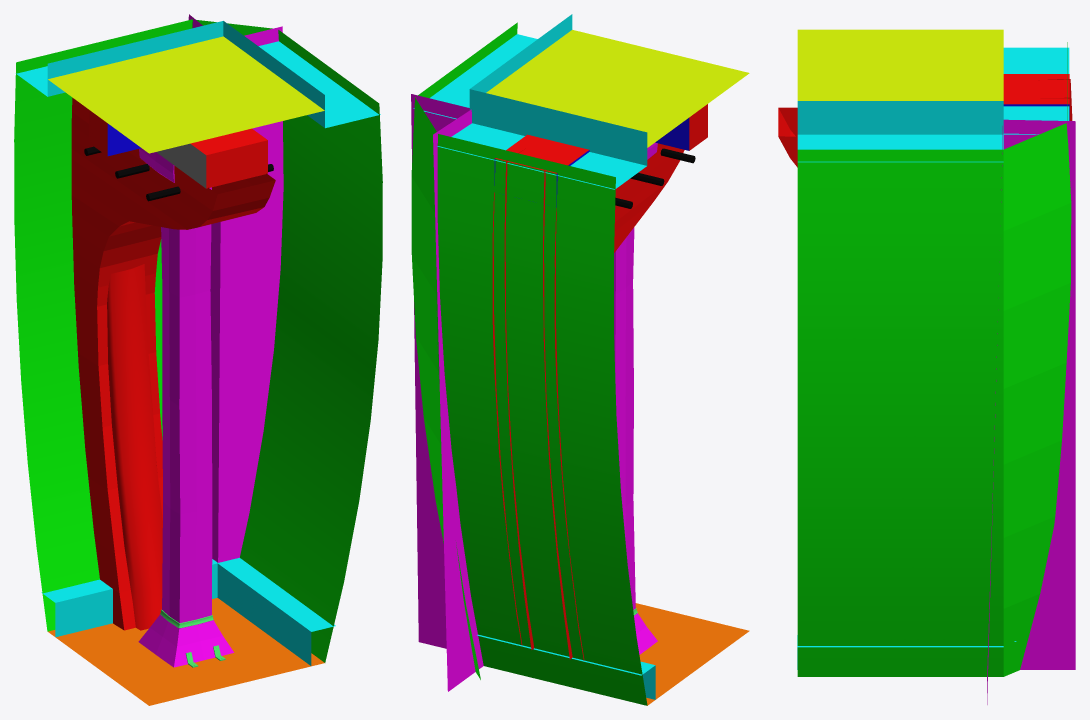
Rendered from E_Tiles.FBX.
The picture shows the model from 3 angles, left to right: view 1: azimuth 30°, elevation 25°; view 2: azimuth 150°, elevation 25°; view 3: azimuth 270°, elevation 25°; orthographic projection.
Parts seen in each view (by area): view 1: E_Esquina, E_L, E_Columna, E_Detalle, E_Cruz, E_Suelo, E_Final, E_Horizontal; view 2: E_Esquina, E_Detalle, E_L, E_Columna, E_Final, E_Horizontal, E_Cruz; view 3: E_Final, E_Esquina, E_Detalle, E_L, E_Cruz, E_Suelo, E_Horizontal.
Boxes of the visible parts, x1,y1,x2,y2 form: E_Esquina: [14, 14, 382, 665]; E_L: [14, 19, 321, 696]; E_Columna: [138, 148, 234, 667]; E_Detalle: [15, 66, 324, 630]; E_Cruz: [48, 36, 324, 696]; E_Suelo: [48, 74, 323, 705]; E_Final: [48, 41, 380, 631]; E_Horizontal: [49, 73, 323, 632]; E_Esquina: [411, 14, 655, 705]; E_Detalle: [436, 30, 749, 702]; E_L: [454, 32, 748, 670]; E_Columna: [614, 142, 657, 654]; E_Final: [433, 34, 747, 663]; E_Horizontal: [521, 34, 748, 605]; E_Cruz: [486, 67, 707, 705]; E_Final: [797, 29, 1003, 676]; E_Esquina: [797, 42, 1075, 704]; E_Detalle: [797, 34, 1072, 200]; E_L: [778, 38, 1069, 641]; E_Cruz: [896, 30, 1003, 100]; E_Suelo: [798, 39, 901, 100]; E_Horizontal: [797, 29, 899, 100].
Bounding box in the file's own units: 133 × 309 × 145.
